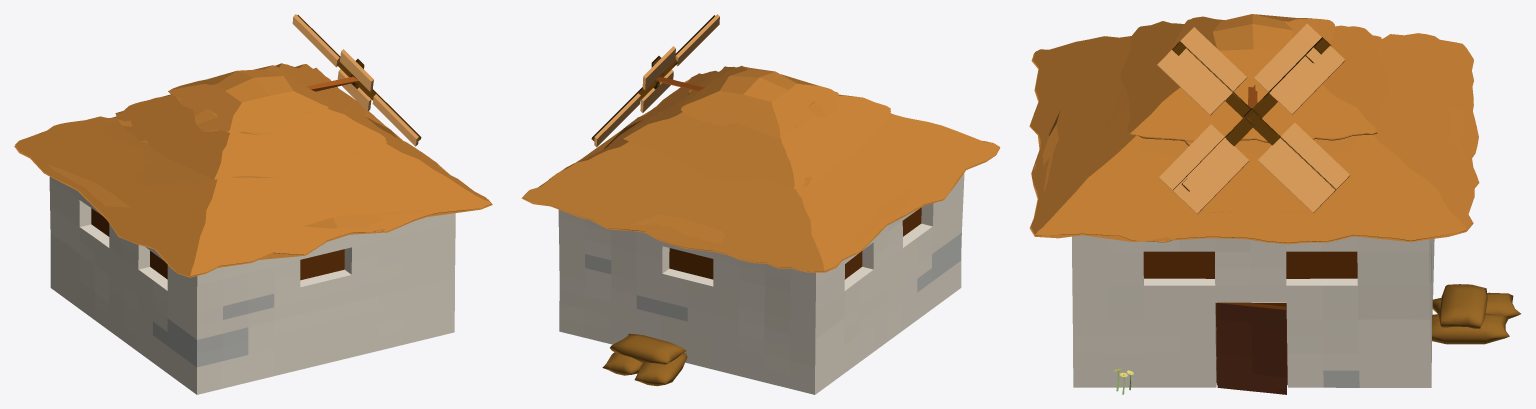
File: mill.gltf
3 views of the same model, side by side, from view 1: azimuth 30°, elevation 25°; view 2: azimuth 150°, elevation 25°; view 3: azimuth 270°, elevation 25° (orthographic). The views are drawn at different scales.
Visible parts, largest first — view 1: Mill; view 2: Mill; view 3: Mill.
Part boxes in pixels (box(x1,y1,x2,y2)): Mill: box(14, 14, 492, 394); Mill: box(521, 14, 1000, 394); Mill: box(1029, 14, 1520, 394).
Bounding box in the file's own units: 7.19 × 5.79 × 7.89.
